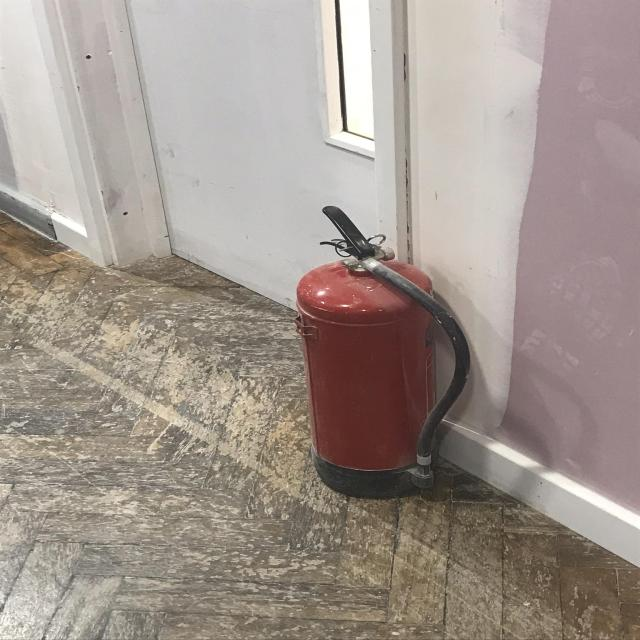fire_extinguisher: (290, 204, 474, 500)
